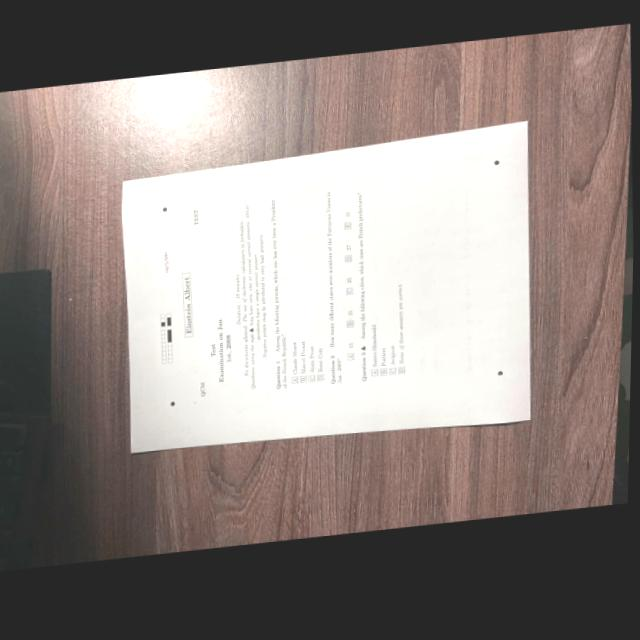Markers: (493, 158, 499, 165), (496, 369, 502, 375), (170, 400, 175, 405), (163, 206, 167, 211)
